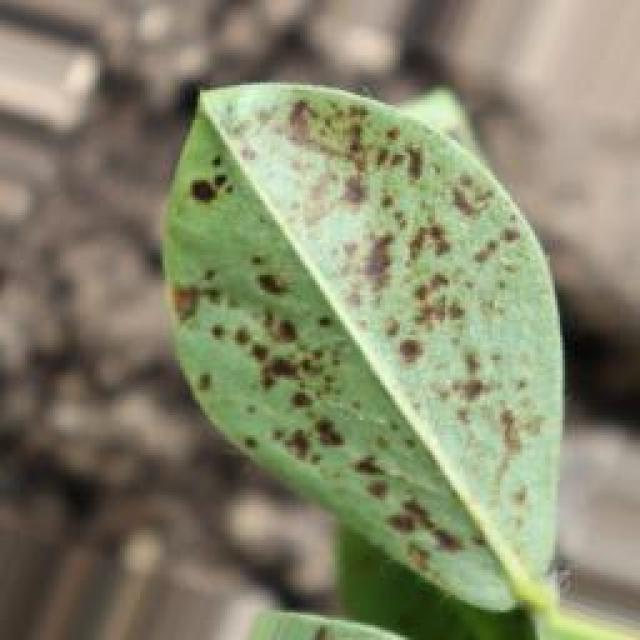Whitefly: (154, 75, 582, 587)
